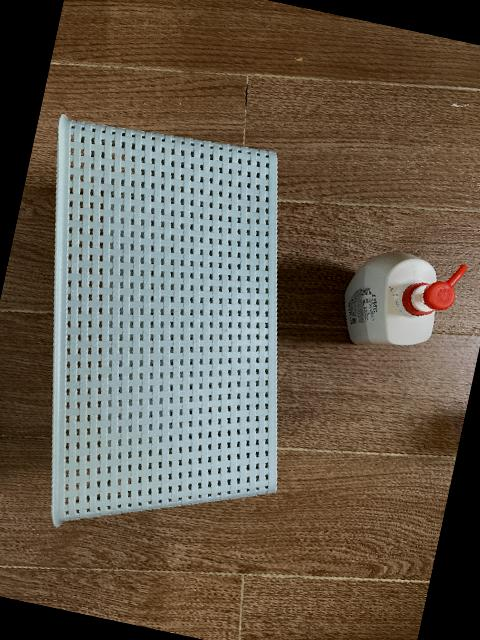cart: (49, 112, 278, 526)
life-buoy: (343, 249, 467, 344)
